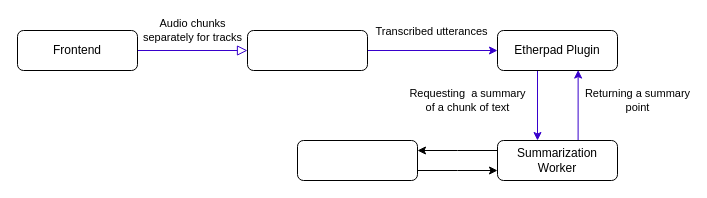
Some shapes in this 707 by 198 pixel diagram are drawn without their labels. The centre of each missing label's shape, as x and y in pixels:
TorchServe w/ BART model: the point at 357,160
Transcription Module: the point at 307,50
